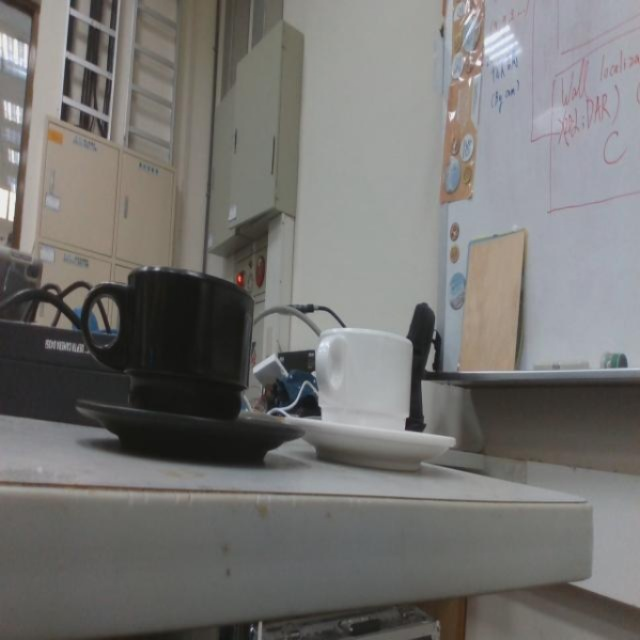black: (70, 259, 308, 470)
white: (283, 324, 459, 472)
